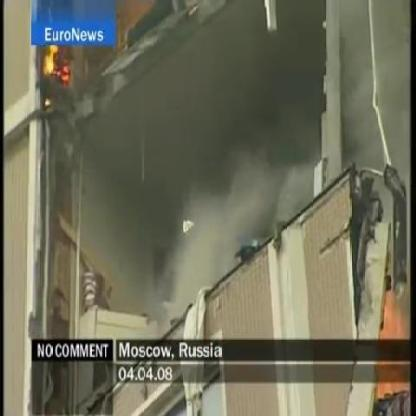fire: (44, 43, 72, 86)
